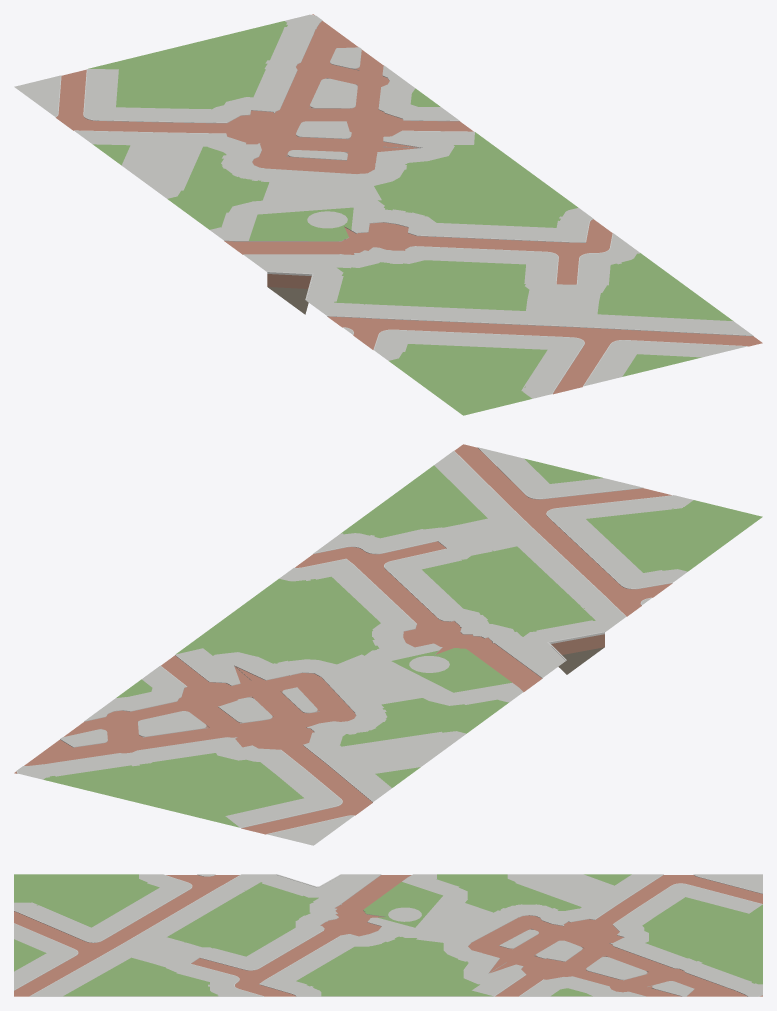
Rendered from ground_13_11.glb.
3 renders of one model, top to bottom at view 1: azimuth 30°, elevation 25°; view 2: azimuth 150°, elevation 25°; view 3: azimuth 270°, elevation 25°, orthographic. The views are drawn at different scales.
Parts seen in each view (by area): view 1: ground_13_11; view 2: ground_13_11; view 3: ground_13_11.
Part boxes in pixels (x1,y1,x2,y2): ground_13_11: (14,14,762,415); ground_13_11: (14,444,762,845); ground_13_11: (14,874,762,996).
Size of the model in its own units: 77.02 by 3.68 by 200.
